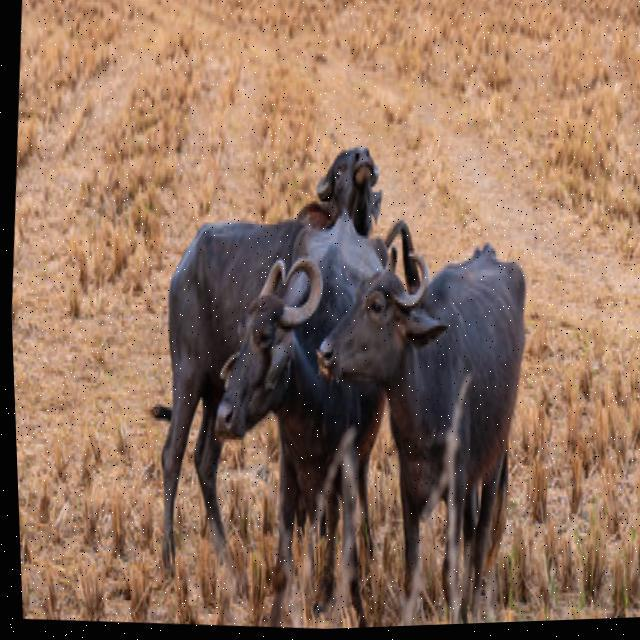Buffalo: (295, 234, 543, 629)
